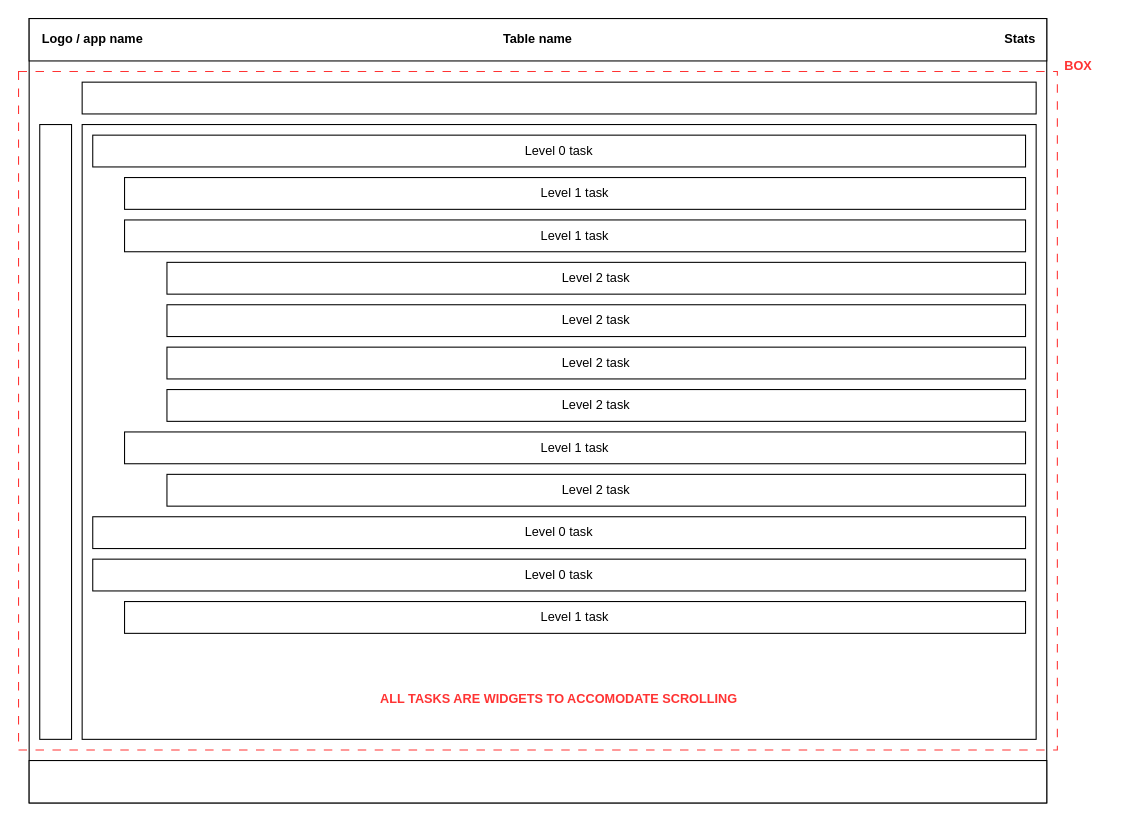
This 1129x821 diagram has some shape labels left out. The shapes that lost their labels are listed below. From the top down, each one's box as (x1, y1, x2, y2) in pixels, then its label:
(81, 81, 1036, 114): Table headers - DOCKED
(39, 123, 72, 739): Indices / line numbers - DOCKED
(28, 759, 1047, 803): CONTROLS (Vim motions + menu call)
